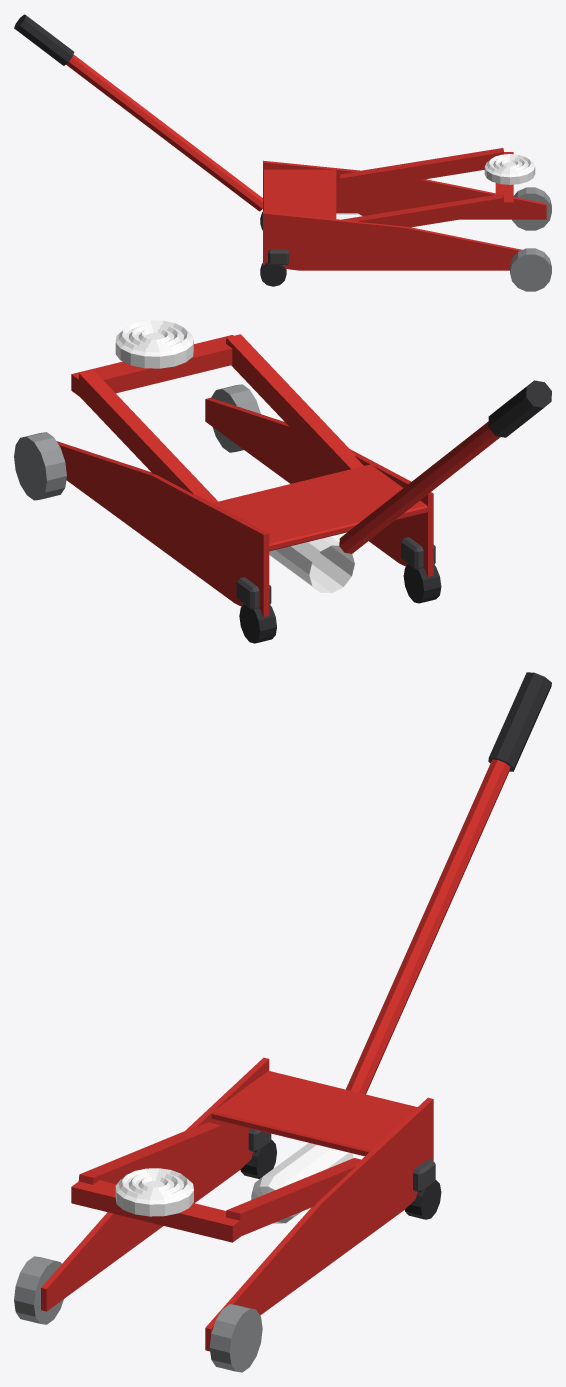
The model's file is item-quick-jack.glb.
3 views of the same model, one above another, from view 1: azimuth 30°, elevation 25°; view 2: azimuth 150°, elevation 25°; view 3: azimuth 270°, elevation 25° (orthographic). The views are drawn at different scales.
Parts seen in each view (by area): view 1: quickJack; view 2: quickJack; view 3: quickJack.
Boxes of the visible parts, x1,y1,x2,y2 form: quickJack: [14, 14, 551, 291]; quickJack: [14, 320, 551, 643]; quickJack: [14, 672, 551, 1372].
Bounding box in the file's own units: 0.9653 × 0.5109 × 0.6523.
